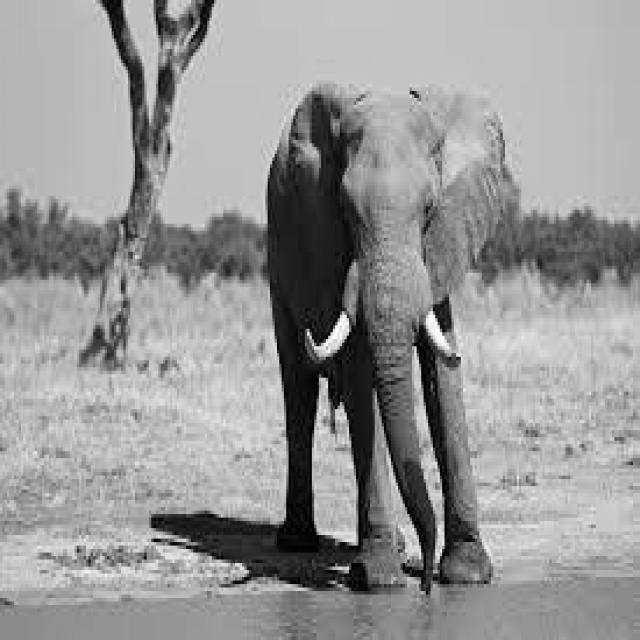Elephant: (258, 70, 514, 591)
